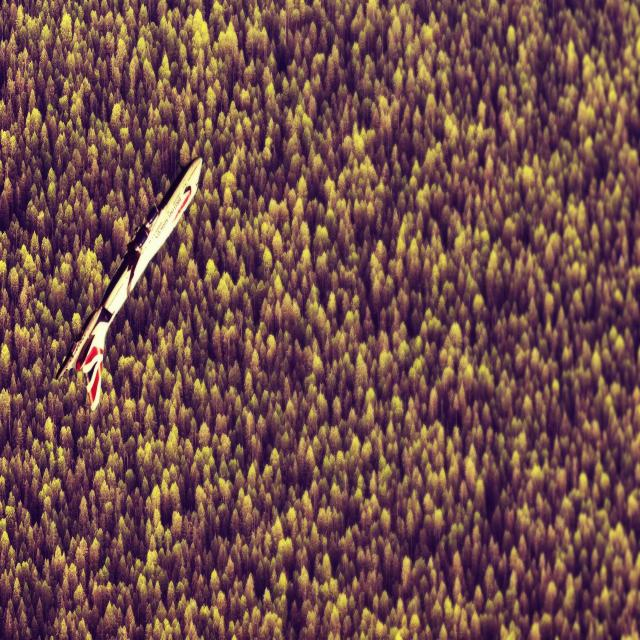airplane: (54, 154, 202, 411)
